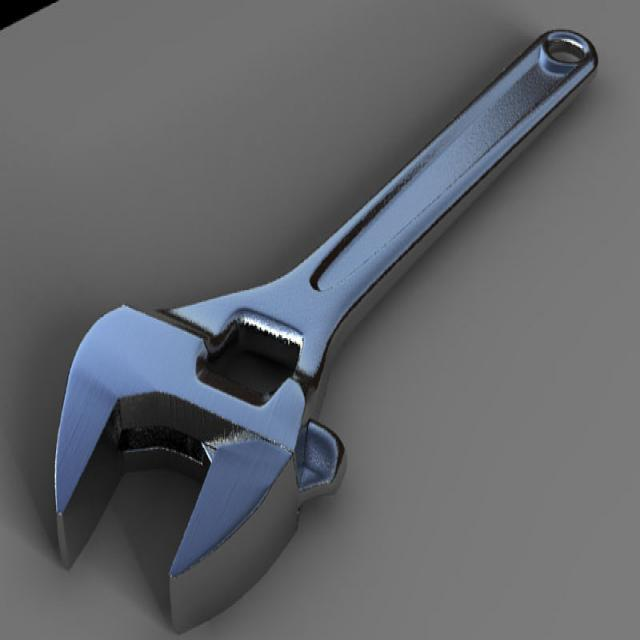wrench: (47, 22, 604, 636)
